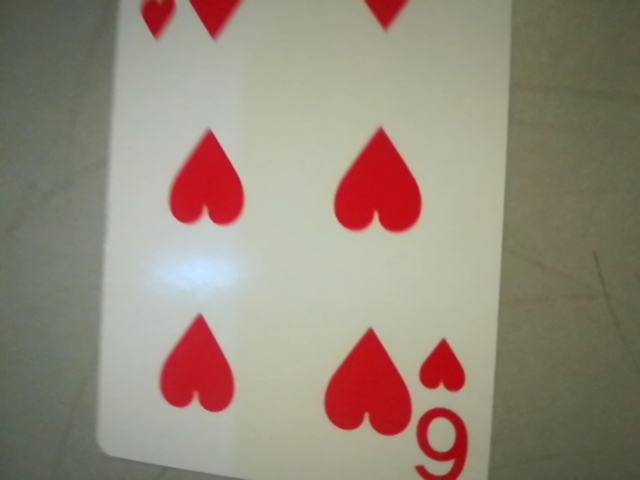hx 6: (405, 331, 481, 480)
